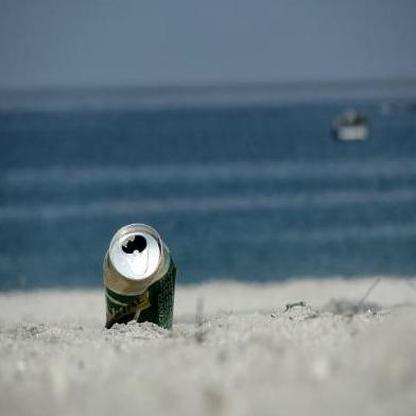can: (102, 221, 177, 332)
